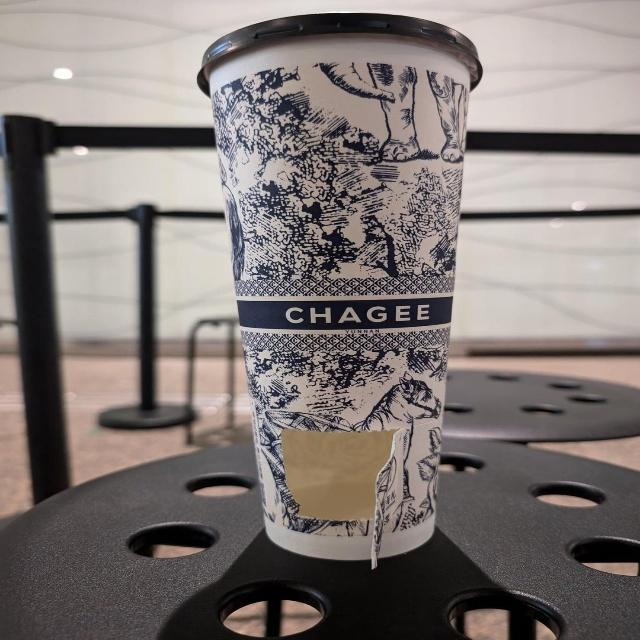paper_cup: (188, 8, 500, 574)
